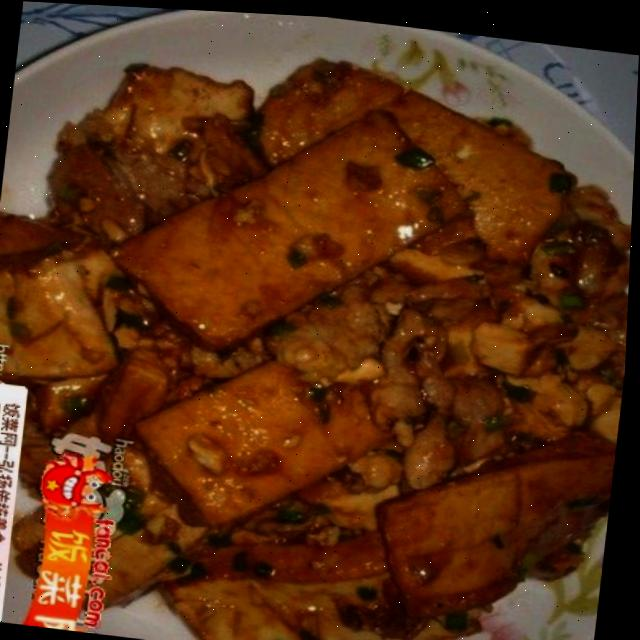豆腐料理: (0, 15, 639, 640)
